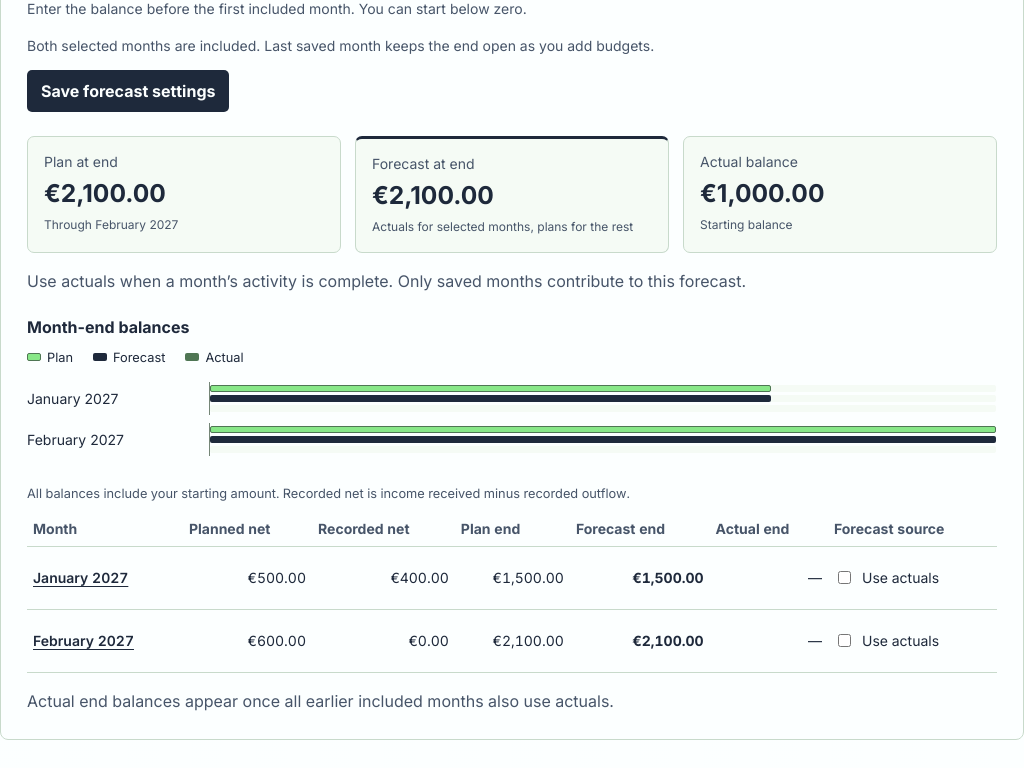
Test: switches a completed month to actuals and can restore its plan
(page scrolled)
Click the checkbox named "Use actuals for January 2027".
click(844, 578)  # box x1=838 y1=571 x2=851 y2=584
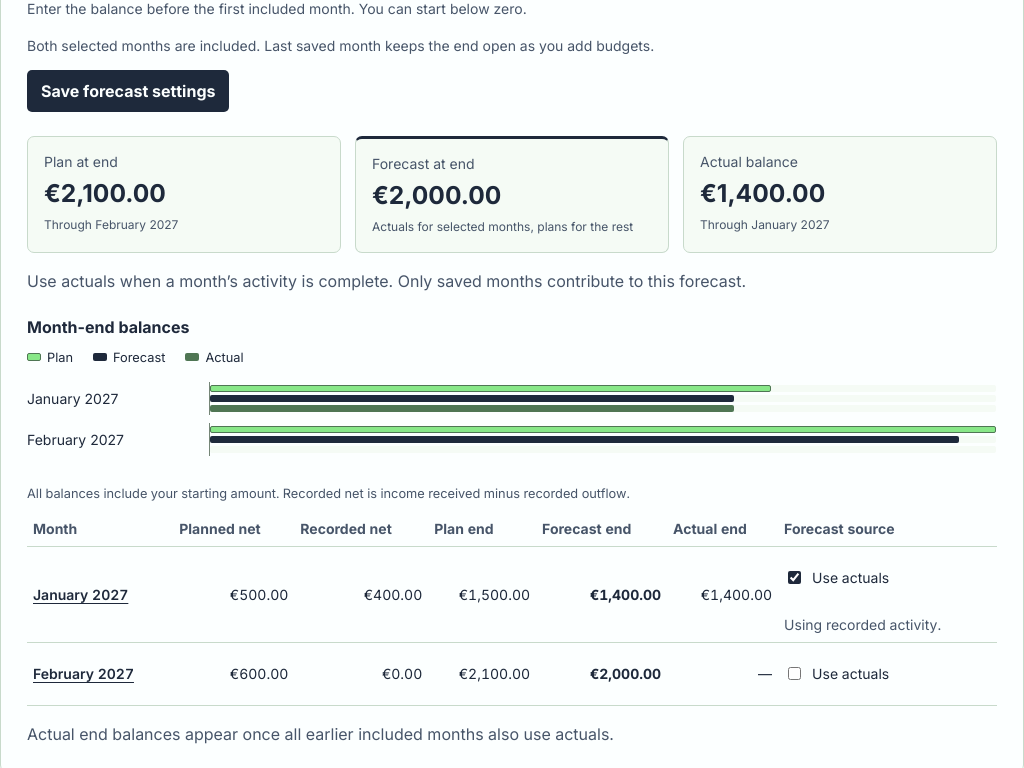
Expected: the text "Using recorded activity." is shown, x1=784 y1=616 x2=941 y2=633
Click the checkbox named "Use actuals for January 2027".
click(795, 578)  # box x1=788 y1=571 x2=801 y2=584
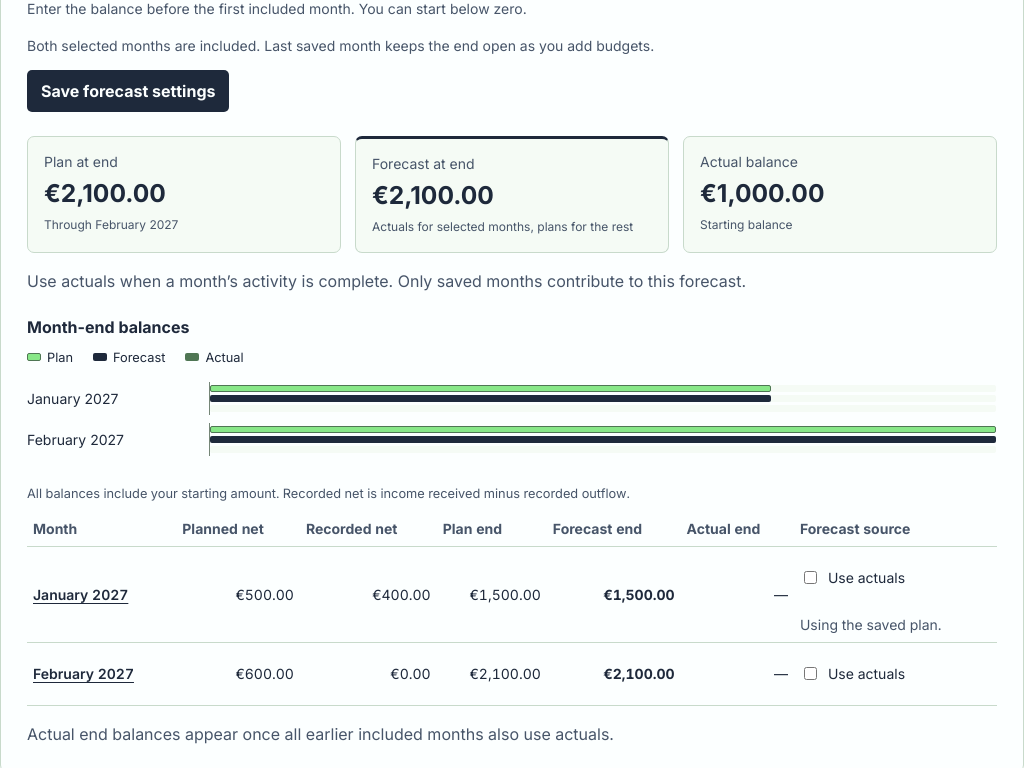
Expected: the text "Using the saved plan." is shown, x1=800 y1=616 x2=942 y2=633
